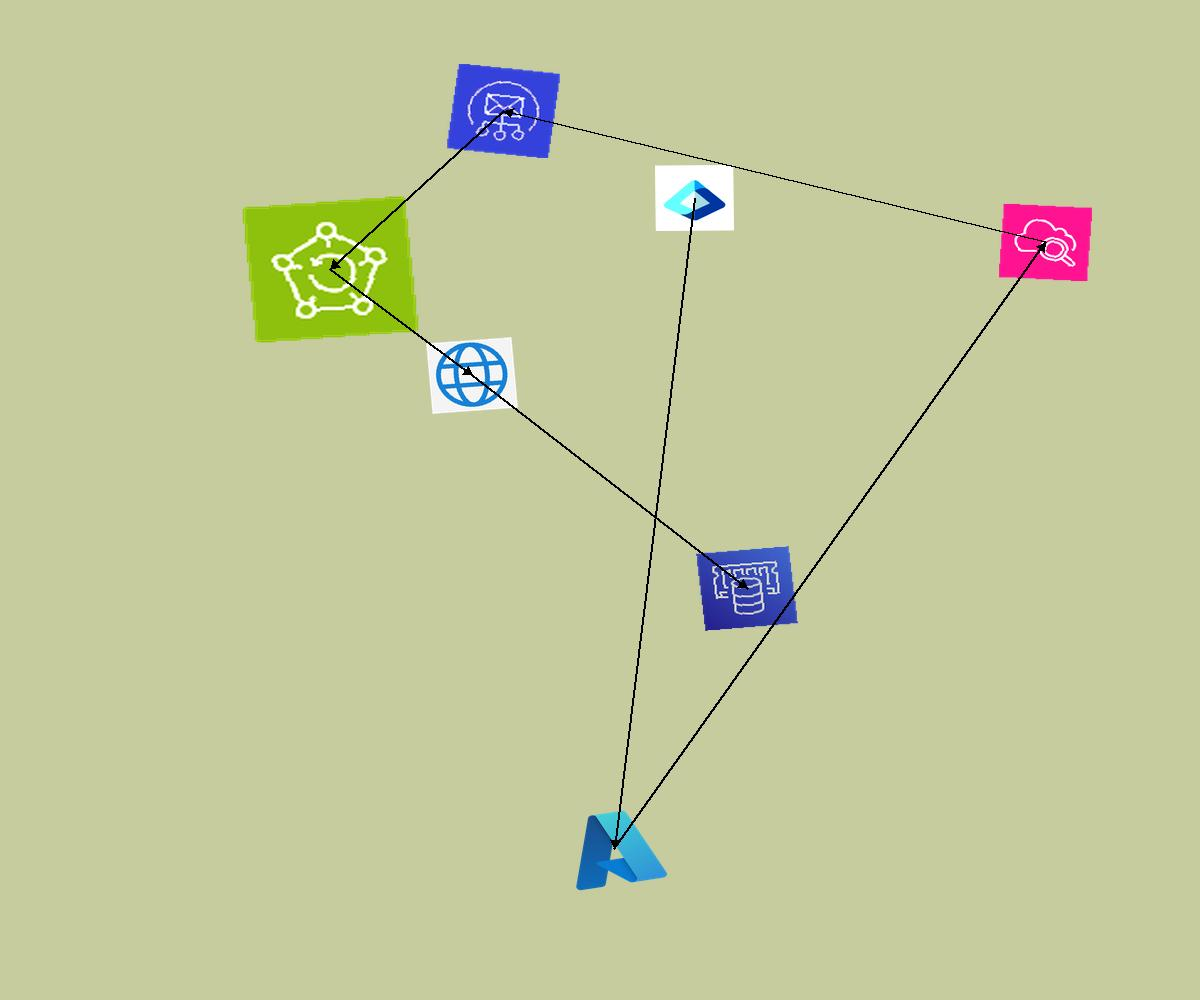AWS-Backup: (241, 195, 420, 344)
AWS-CloudWatch: (998, 203, 1093, 282)
AWS-ElastiCache: (696, 546, 798, 631)
AWS-Simple-Email-Service: (446, 63, 561, 159)
Azure_http: (426, 337, 518, 414)
Azure_microsoft_entra: (655, 165, 734, 231)
Azure_services: (556, 800, 673, 897)
